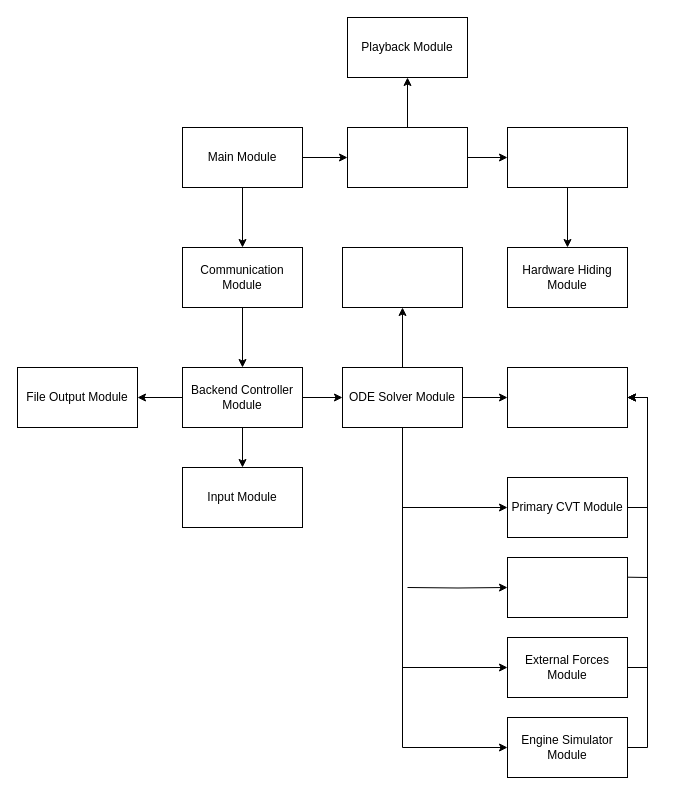
Image size: 673x795. Some labels were removed from this diagram. Each missing label, with the centre of its shape:
Constants Module: the point at 567,397
GUI Module: the point at 567,157
Secondary CVT Module: the point at 567,587
State Module: the point at 402,277
Visualizer Module: the point at 407,157
